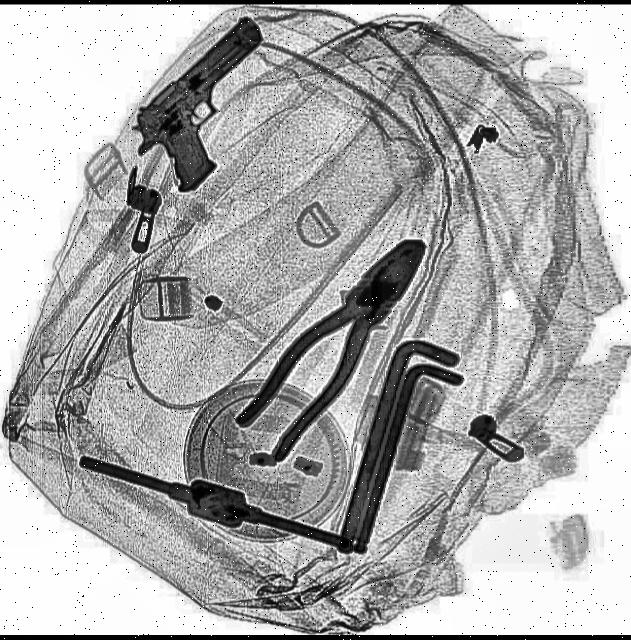Gun: (117, 11, 306, 204)
Pliers: (231, 215, 446, 466)
